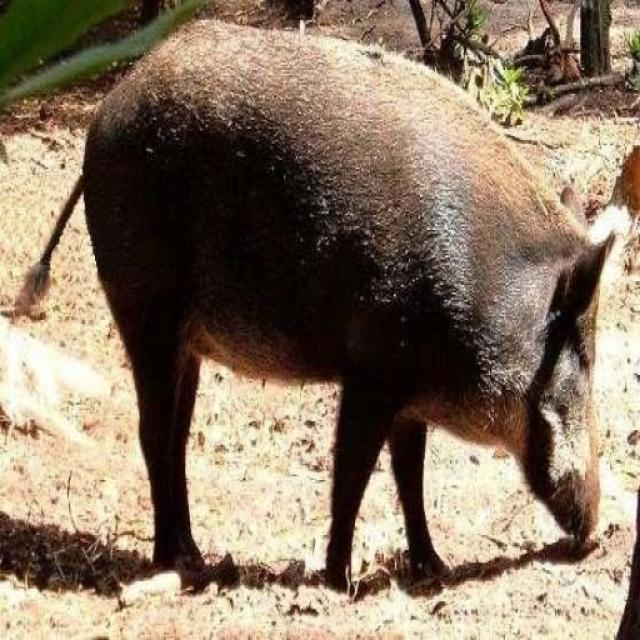pig: (68, 19, 640, 618)
